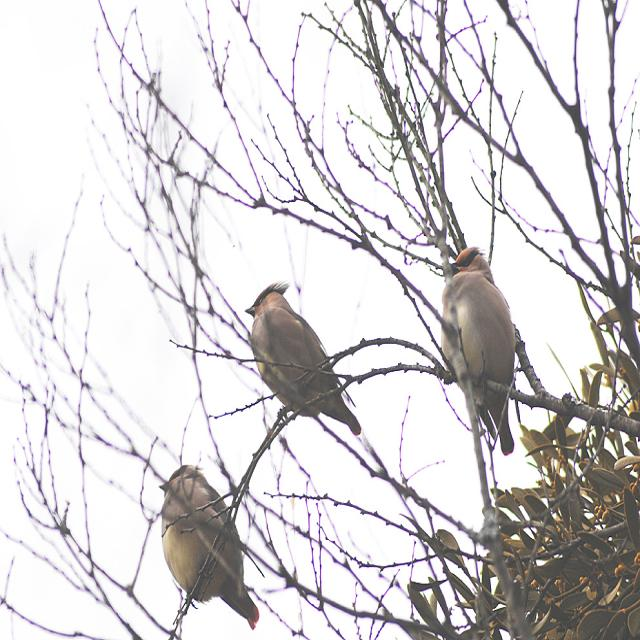bird: (443, 240, 528, 470), (155, 470, 253, 633), (248, 282, 338, 417)
